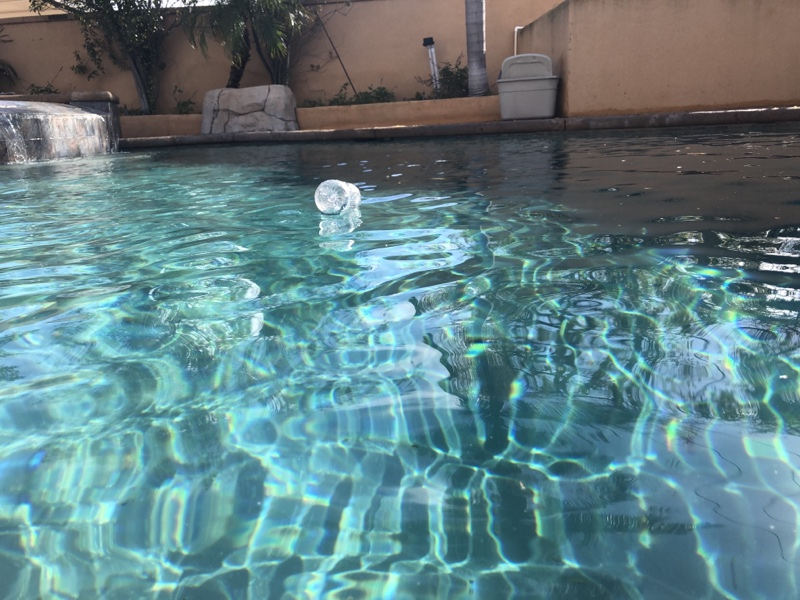Plastic Bottle: (310, 175, 364, 217)
